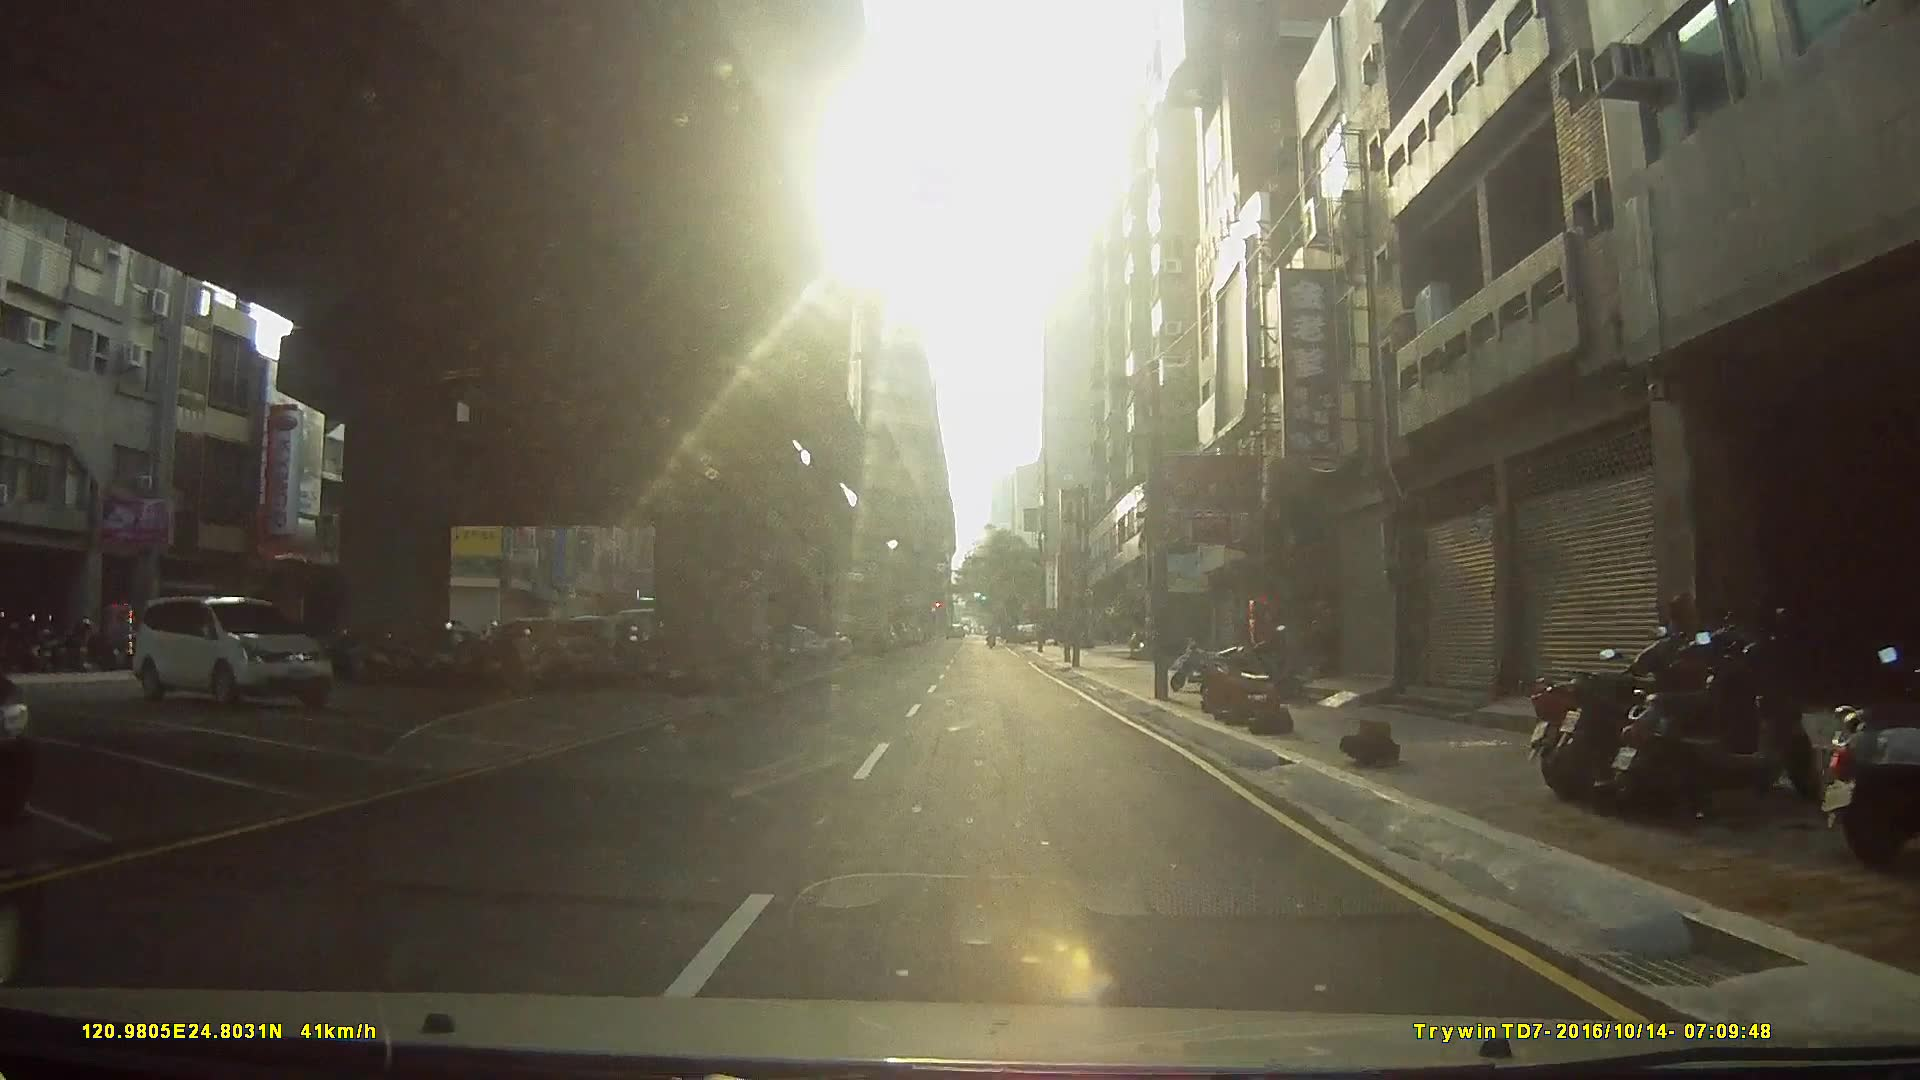vehicle: (131, 595, 334, 711)
